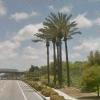Palm tree: (33, 8, 79, 94)
